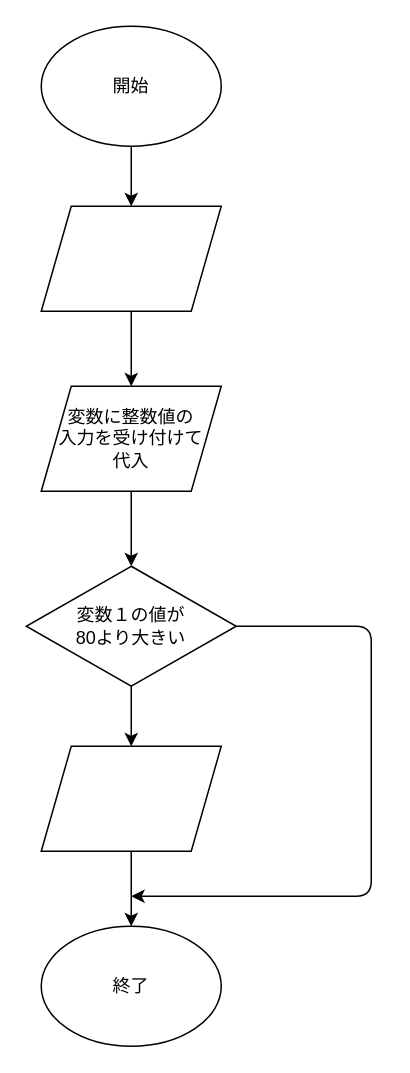
This 410x1073 diagram has some shape labels left out. The centre of each missing label's shape, as x and y in pixels:
"画面に 0～100までの 得点を入力" goes at (130,258).
"画面に 合格ですと表示" goes at (130,798).
